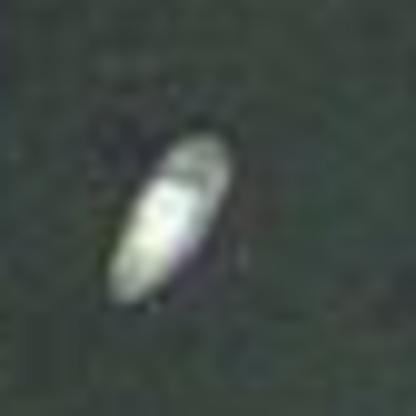ship: (81, 106, 251, 317)
